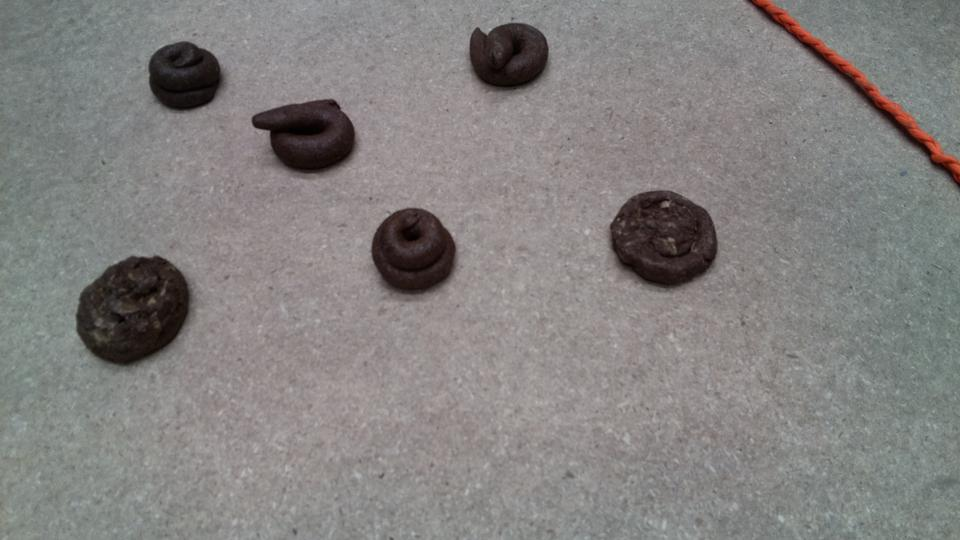poop: (71, 252, 193, 370), (606, 187, 723, 293), (247, 94, 359, 177), (367, 204, 461, 298), (467, 19, 550, 95), (143, 39, 227, 114)
rope: (758, 1, 960, 174)
